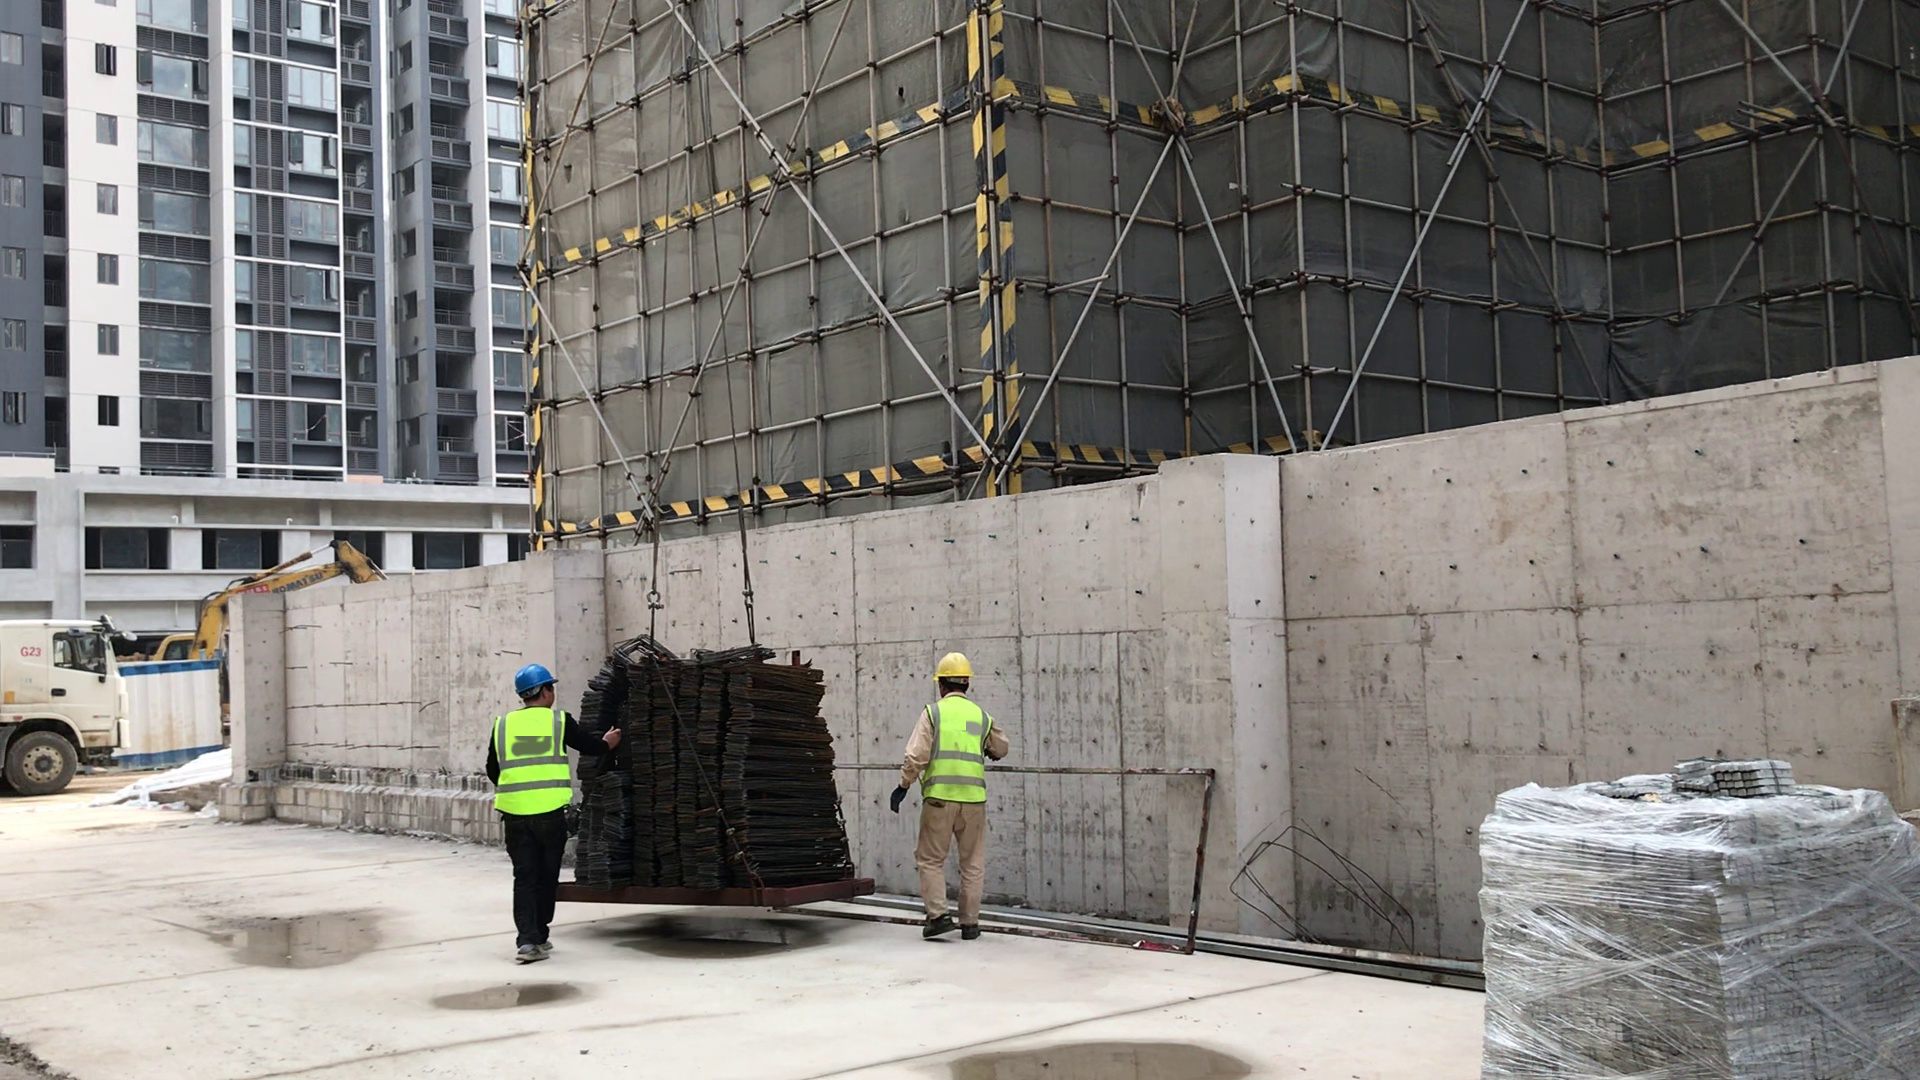helmet: (926, 651, 985, 692), (512, 666, 568, 697)
person: (486, 643, 580, 966), (913, 632, 998, 933)
vest: (490, 712, 571, 811), (922, 705, 990, 812)
